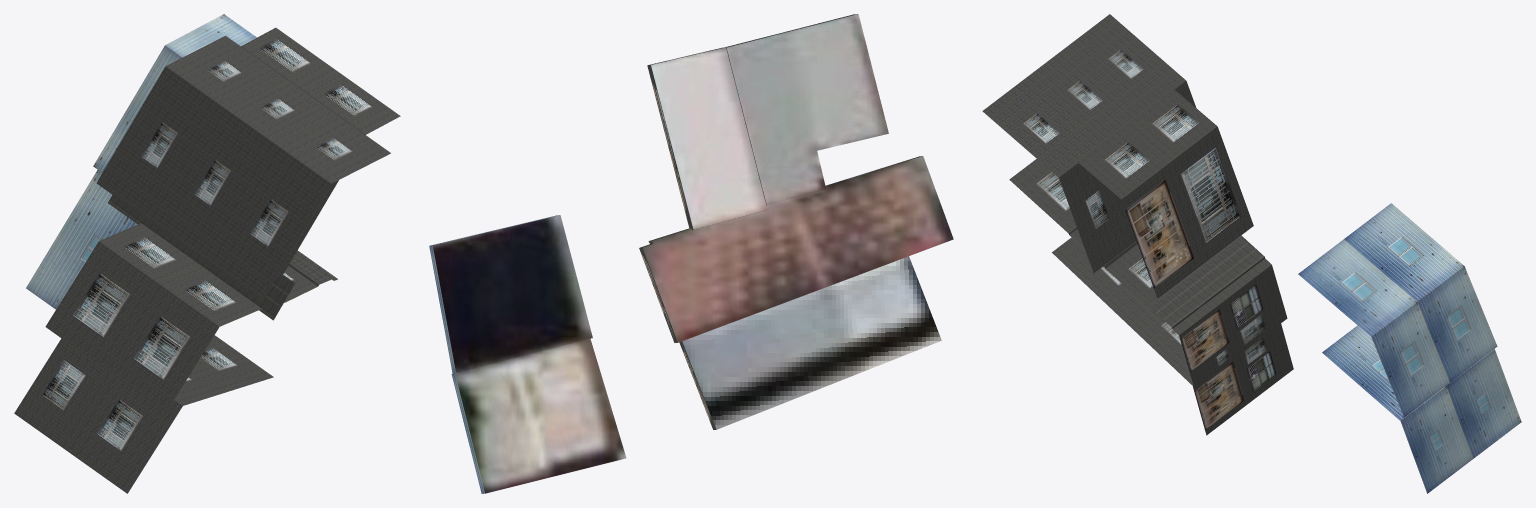
3 renders of one model, left to right at view 1: azimuth 30°, elevation 25°; view 2: azimuth 150°, elevation 25°; view 3: azimuth 270°, elevation 25°, orthographic. The views are drawn at different scales.
Size of the model in its own units: 23.86 by 23.44 by 29.84.
20 materials, 20 textured.
